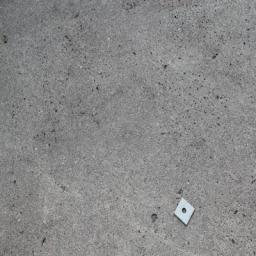FOD: (169, 193, 198, 228)
